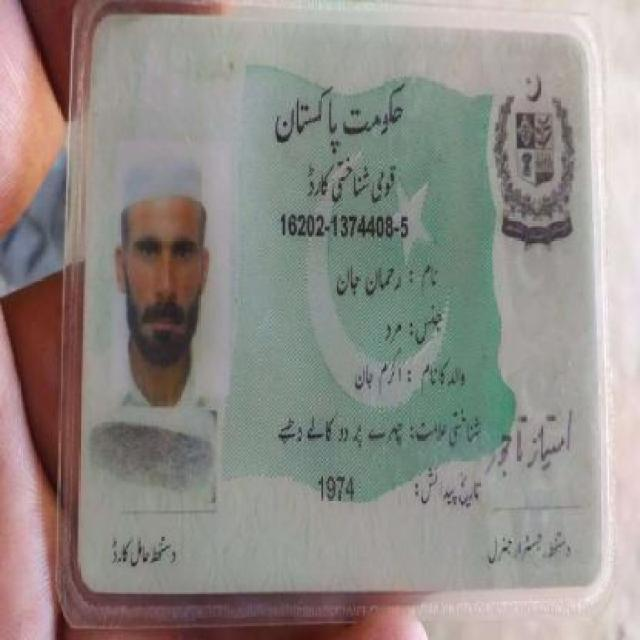Front: (69, 15, 608, 594)
